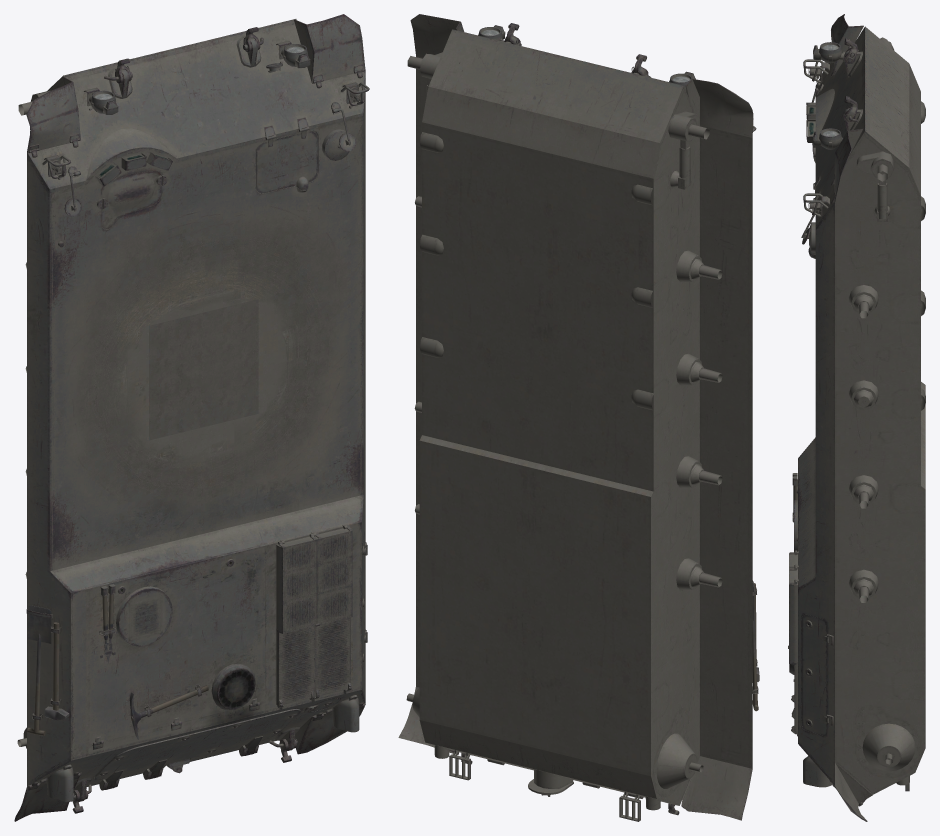
Rendered from Hull.glb.
3 views of the same model, side by side, from view 1: azimuth 30°, elevation 25°; view 2: azimuth 150°, elevation 25°; view 3: azimuth 270°, elevation 25° (orthographic). The views are drawn at different scales.
Visible parts, largest first — view 1: set_0_group_0; view 2: set_0_group_0; view 3: set_0_group_0.
Part boxes in pixels (<box>): set_0_group_0: <box>14,14,369,821</box>; set_0_group_0: <box>398,14,759,821</box>; set_0_group_0: <box>788,14,925,821</box>.
Size of the model in its own units: 3.03 by 6.34 by 1.15.
Materials: 1 (1 with a texture image).
